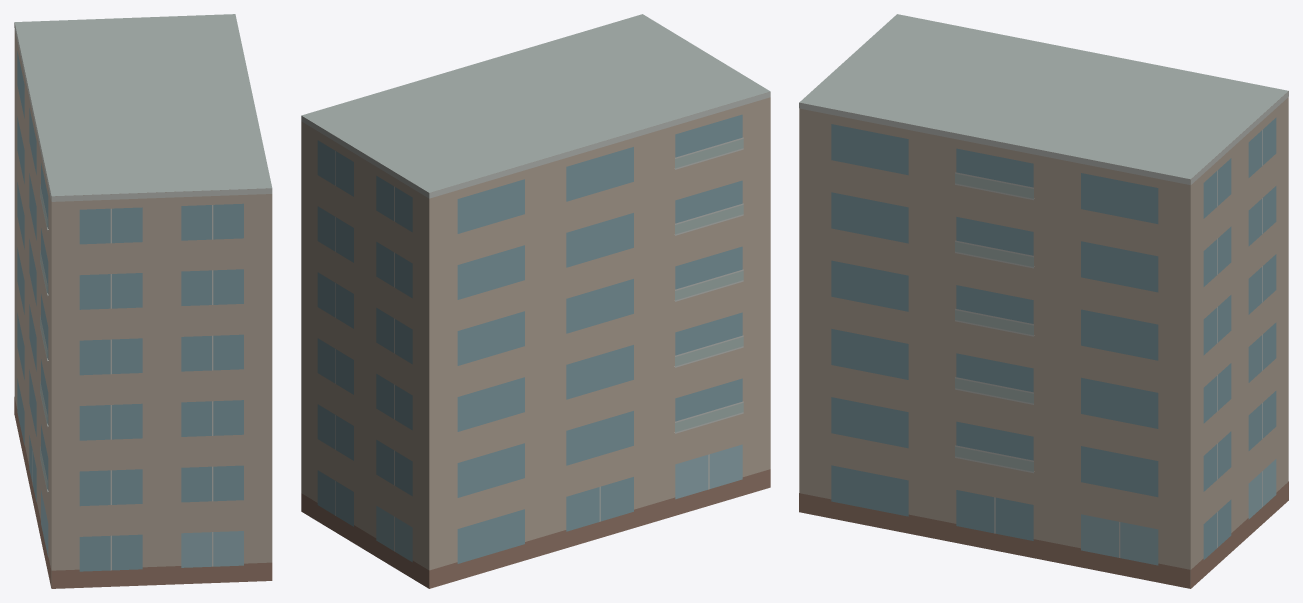
Rendered from survey-upis-32669328.glb.
The picture shows the model from 3 angles, left to right: view 1: azimuth 30°, elevation 25°; view 2: azimuth 150°, elevation 25°; view 3: azimuth 270°, elevation 25°; orthographic projection. The views are drawn at different scales.
Visible parts, largest first — view 1: survey-upis-32669328.tmp; view 2: survey-upis-32669328.tmp; view 3: survey-upis-32669328.tmp.
Part boxes in pixels (x1,y1,x2,y2): survey-upis-32669328.tmp: (14, 14, 272, 588); survey-upis-32669328.tmp: (301, 14, 770, 588); survey-upis-32669328.tmp: (799, 14, 1288, 588).
Size of the model in its own units: 14.55 by 16.8 by 18.21.
